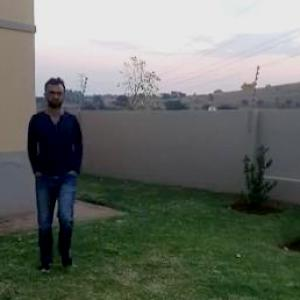follow: (22, 72, 87, 263)
